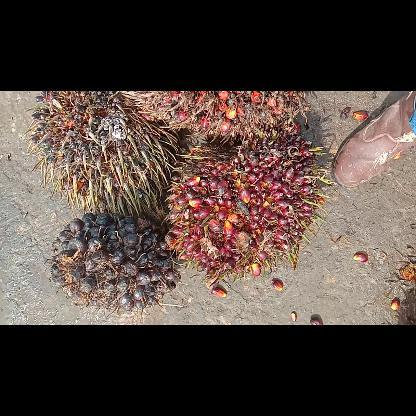TBS abnormal: (24, 90, 174, 218)
TBS masak: (167, 142, 327, 280)
TBS mentah: (49, 216, 177, 314)
Terlalu masak: (121, 91, 309, 143)
